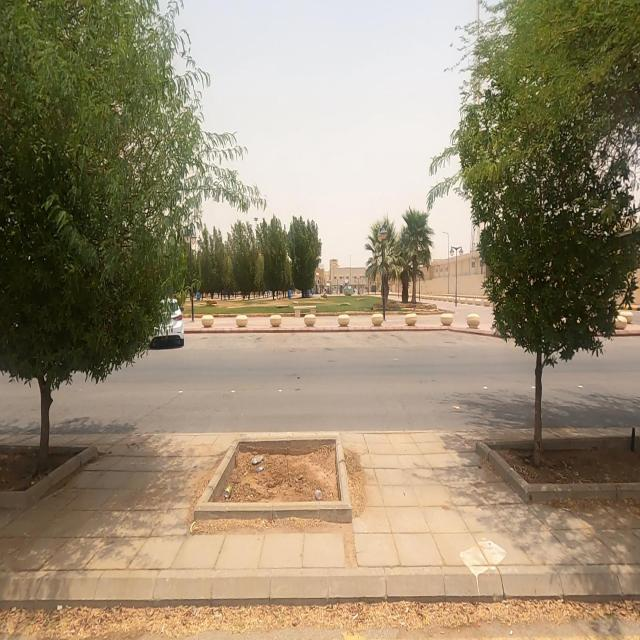debris: (209, 454, 254, 525), (236, 436, 282, 484), (300, 467, 338, 519)
